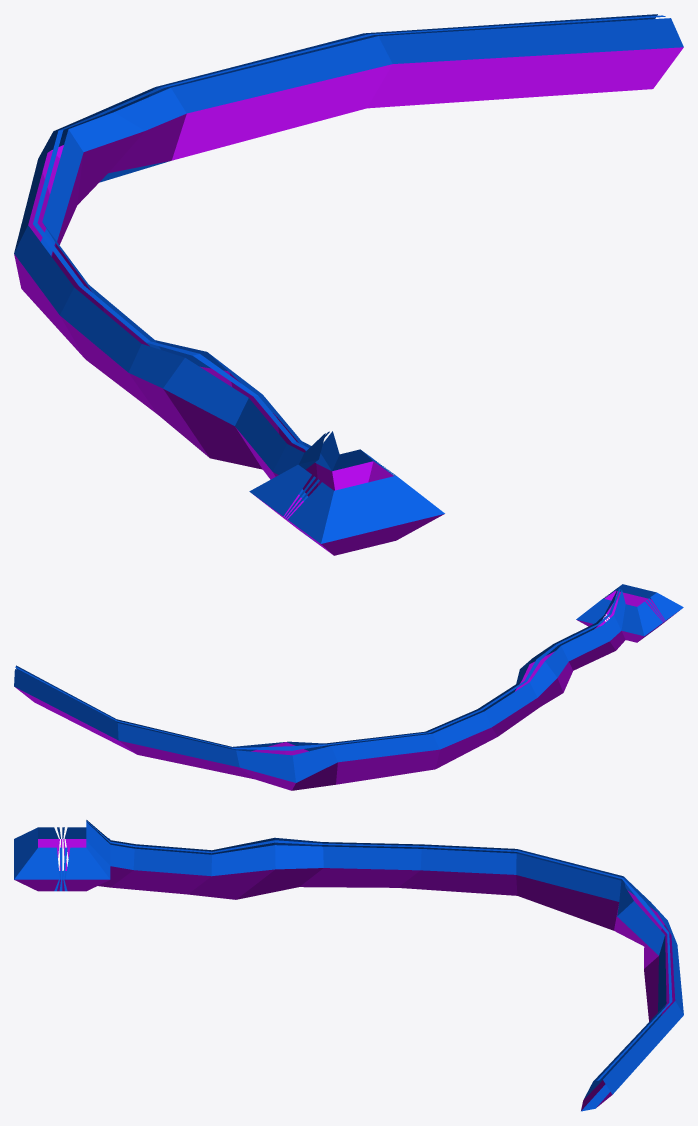
Rendered from tutorial.fbx.
3 views of the same model, one above another, from view 1: azimuth 30°, elevation 25°; view 2: azimuth 150°, elevation 25°; view 3: azimuth 270°, elevation 25° (orthographic). The views are drawn at different scales.
Parts seen in each view (by area): view 1: Plane; view 2: Plane; view 3: Plane.
Boxes of the visible parts, left/top/right/bottom form: Plane: left=14, top=14, right=683, bottom=555; Plane: left=14, top=584, right=683, bottom=790; Plane: left=14, top=820, right=683, bottom=1111.
Bounding box in the file's own units: 12650 × 1625 × 13888.
